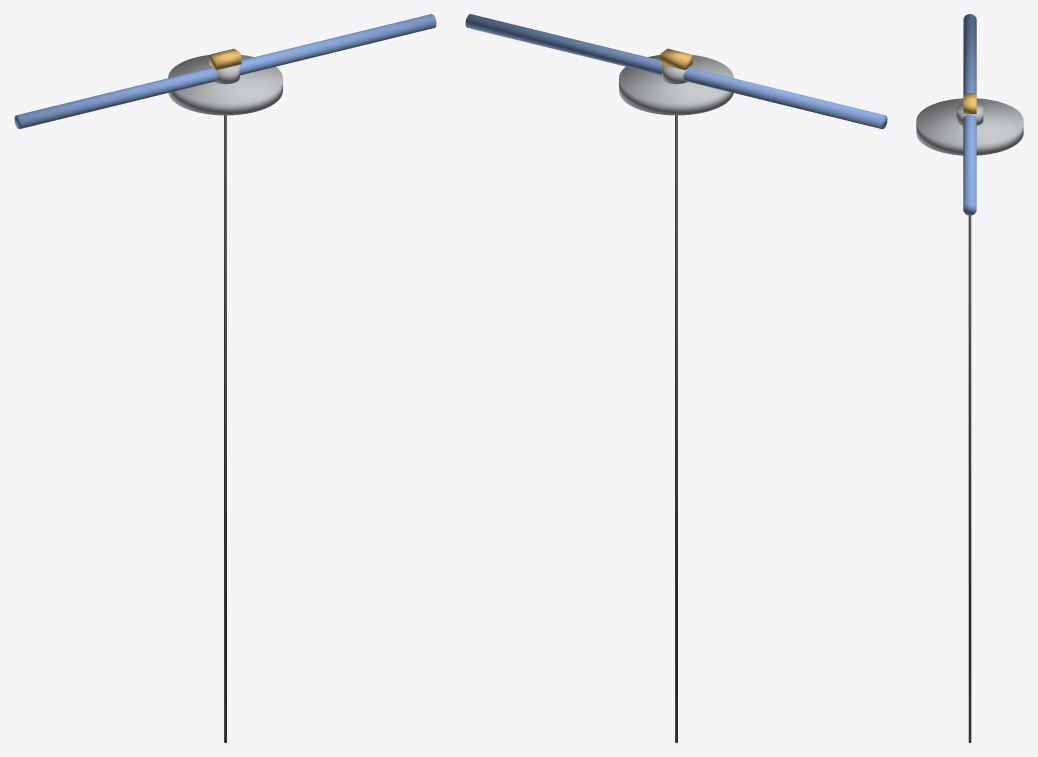
Rendered from launcher.glb.
3 renders of one model, left to right at view 1: azimuth 30°, elevation 25°; view 2: azimuth 150°, elevation 25°; view 3: azimuth 270°, elevation 25°, orthographic. The views are drawn at different scales.
Visible parts, largest first — view 1: Tube, Platform, Cable; view 2: Tube, Platform, Cable; view 3: Platform, Tube, Cable, Hub, Magazine.
Boxes of the visible parts, x1=… form: Tube: x1=14, y1=14, x2=436, y2=129; Platform: x1=168, y1=55, x2=282, y2=115; Cable: x1=224, y1=115, x2=226, y2=742; Tube: x1=465, y1=14, x2=887, y2=129; Platform: x1=619, y1=55, x2=733, y2=115; Cable: x1=675, y1=115, x2=677, y2=742; Platform: x1=916, y1=98, x2=1023, y2=155; Tube: x1=963, y1=14, x2=976, y2=215; Cable: x1=968, y1=215, x2=971, y2=742; Hub: x1=956, y1=104, x2=983, y2=125; Magazine: x1=963, y1=93, x2=976, y2=113.
Size of the model in its own units: 100 by 158 by 24.
